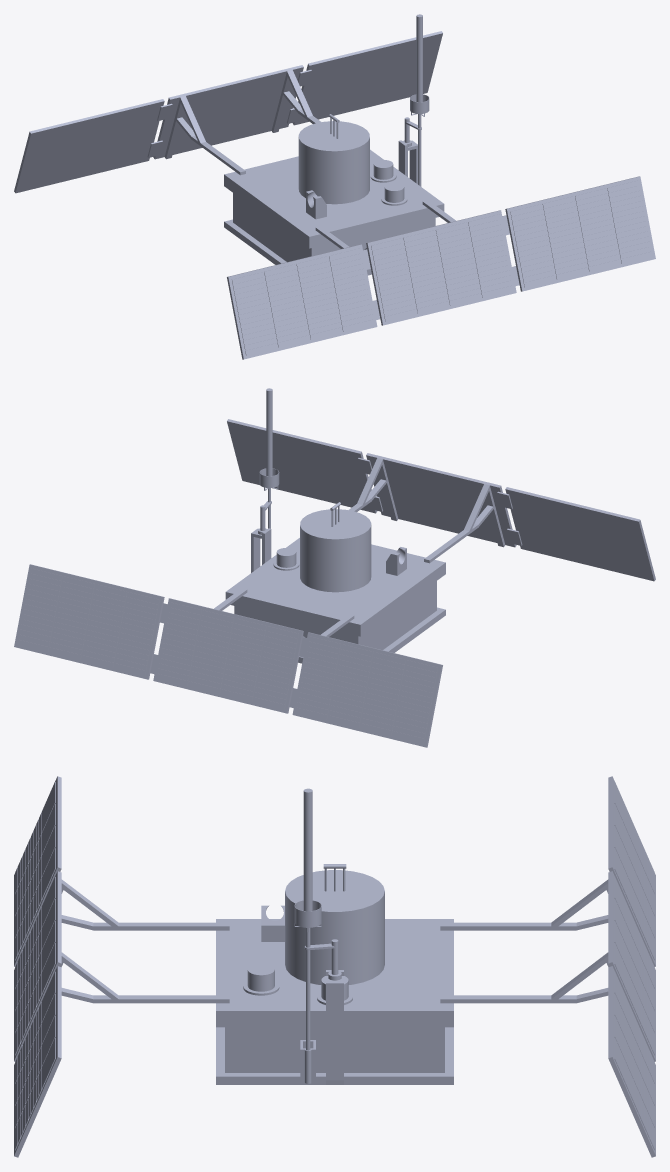
The model's file is estacion1.glb.
3 views of the same model, one above another, from view 1: azimuth 30°, elevation 25°; view 2: azimuth 150°, elevation 25°; view 3: azimuth 270°, elevation 25° (orthographic). The views are drawn at different scales.
Bounding box in the file's own units: 1.86 × 0.9271 × 1.8.
